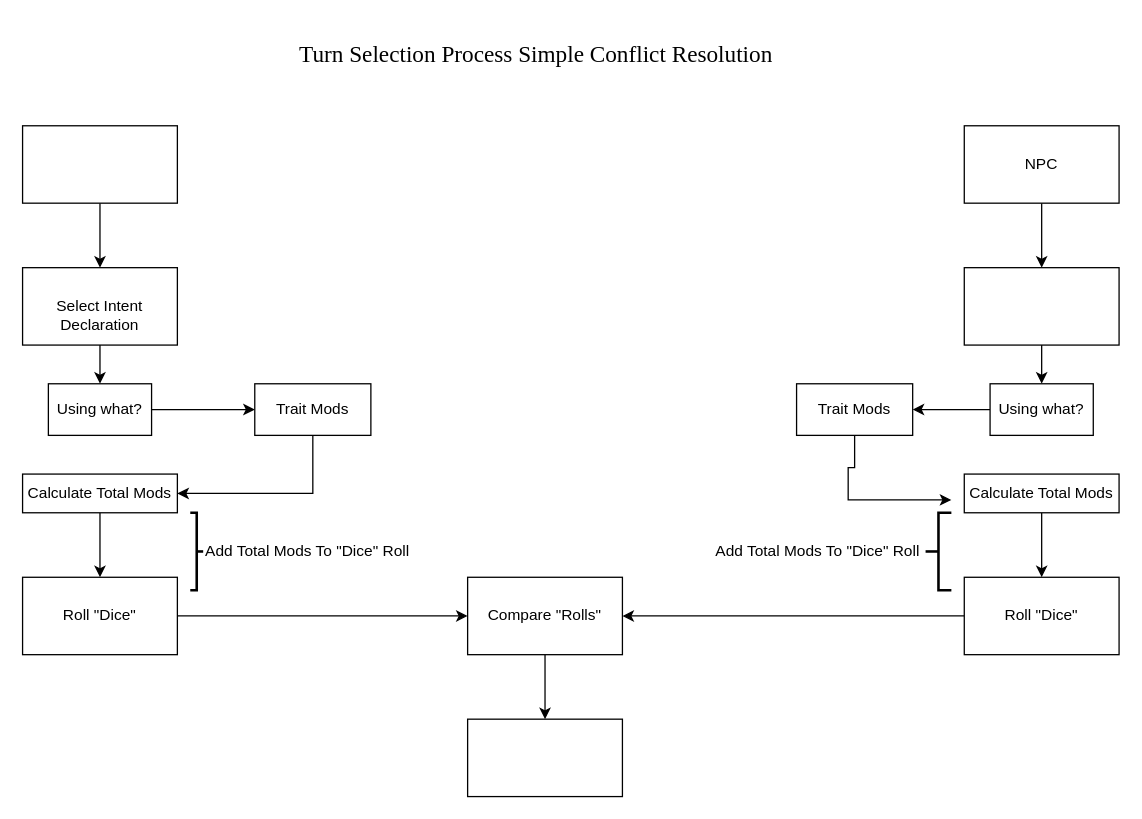
This 1142x819 diagram has some shape labels left out. Here are the shapes that lost their labels. From the top down, the centre of each, then its label:
At point (99, 163): "PC".
At point (1041, 305): "Rolls Intent".
At point (544, 757): "Show Result To Player(s)".
